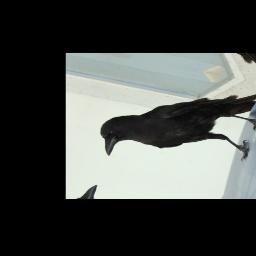Crow: (90, 66, 256, 183)
